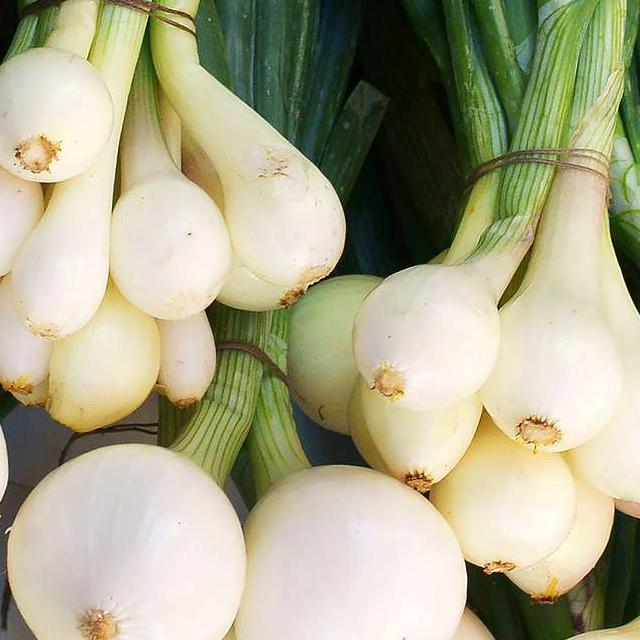green_onion: (285, 0, 640, 605)
